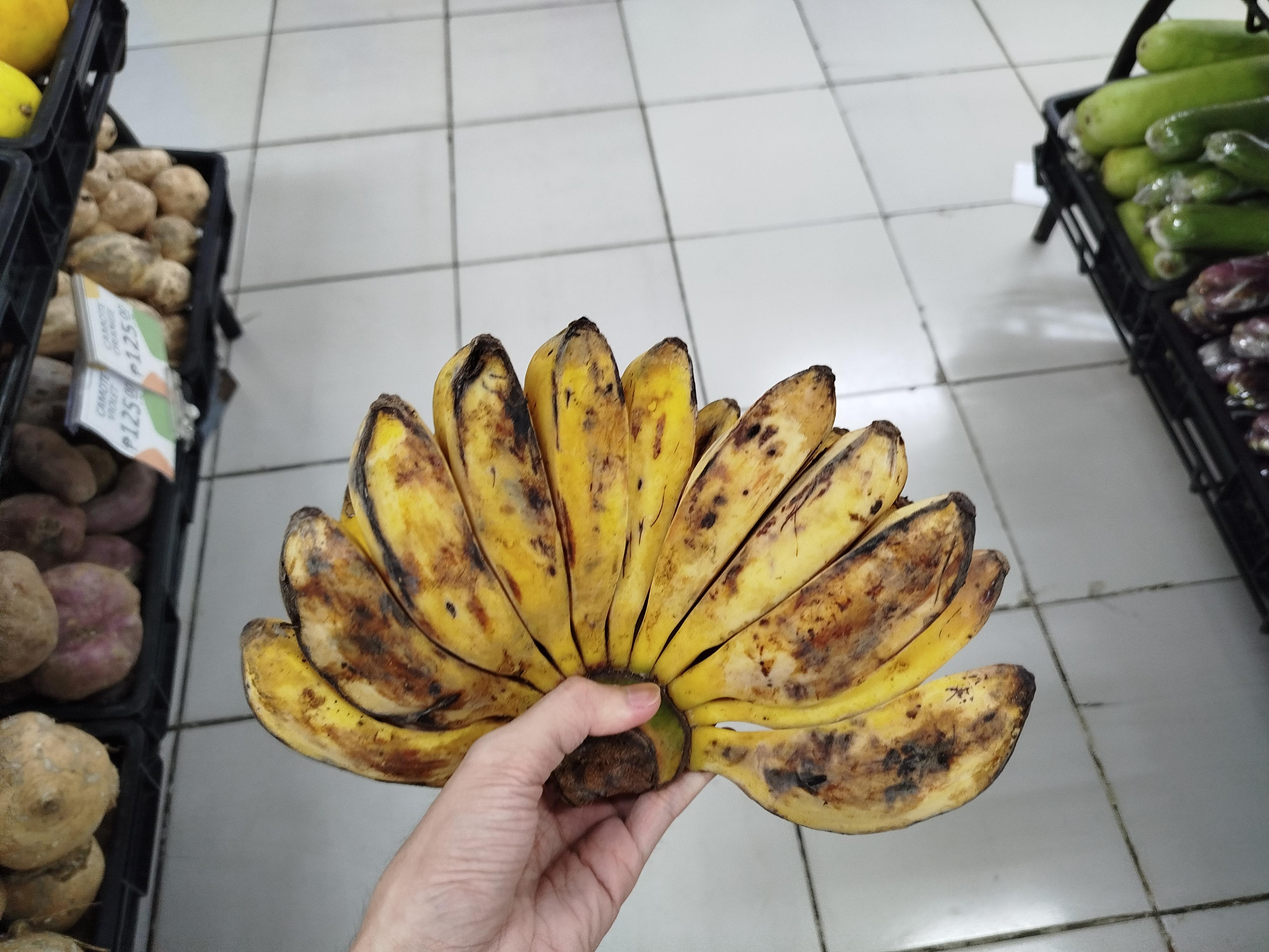ripe: (241, 319, 1034, 832)
